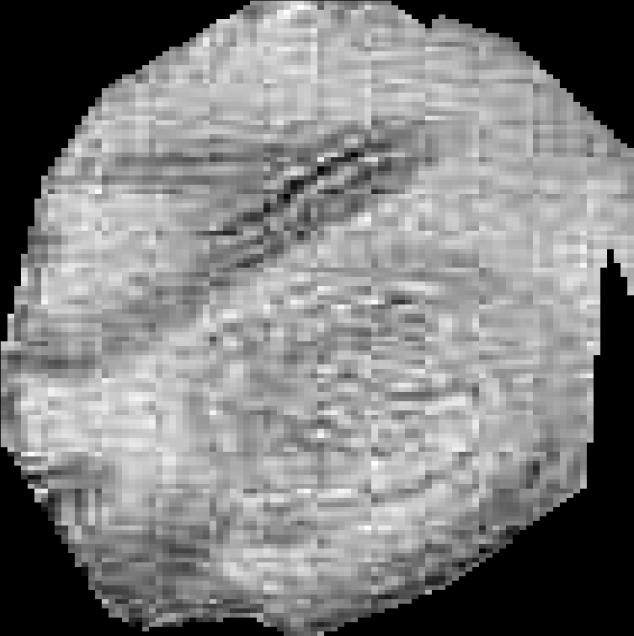tumor_moderate_chance: (1, 1, 634, 636)
